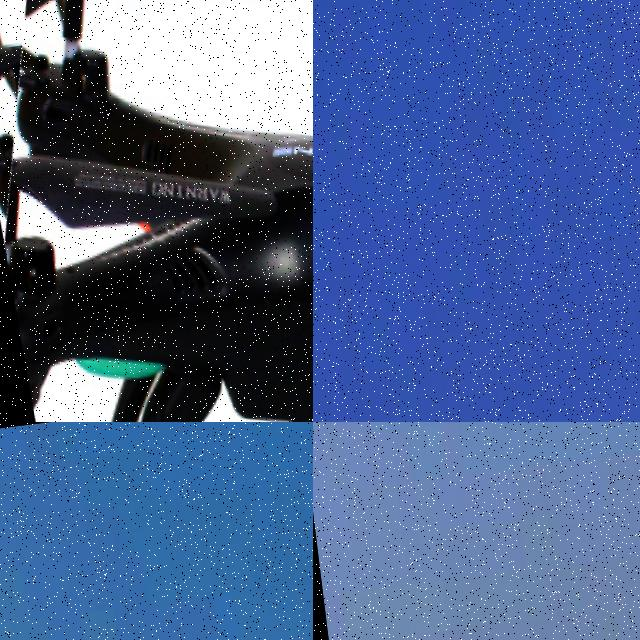drone: (0, 0, 313, 422)
